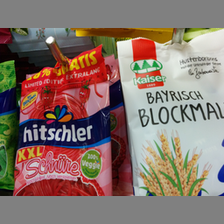candy: (116, 33, 224, 195), (16, 46, 113, 197)
